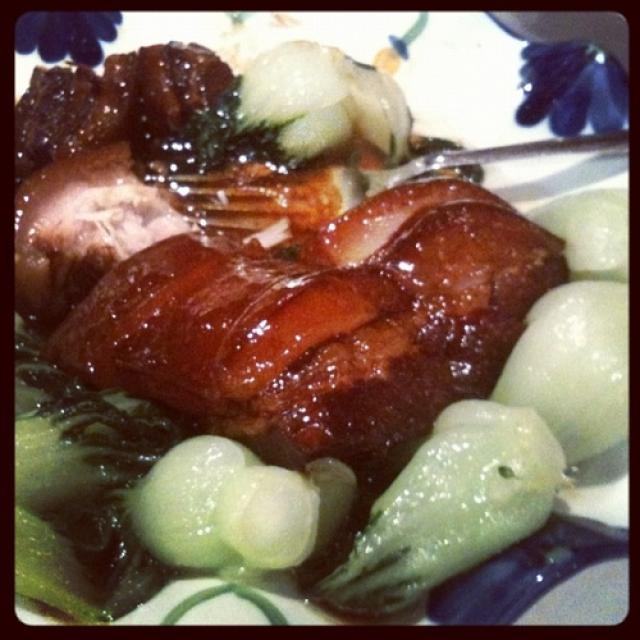牛肉菜式: (29, 28, 589, 557)
